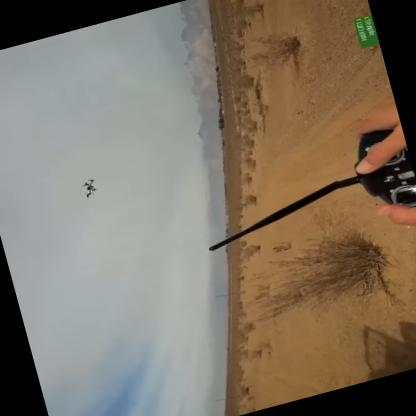drone: (78, 174, 104, 202)
